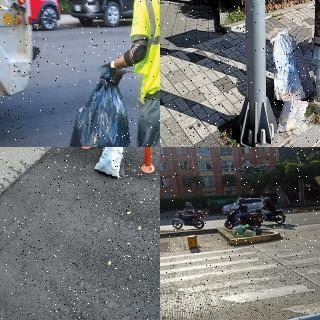Garbage: (65, 65, 143, 147), (278, 56, 317, 142), (271, 27, 315, 101), (95, 147, 132, 182), (247, 226, 262, 235), (235, 224, 248, 234), (243, 229, 256, 236)
